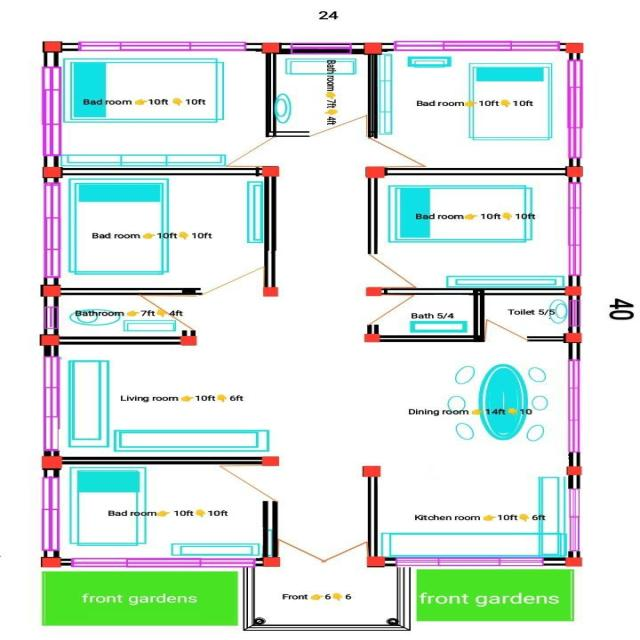column: (34, 454, 71, 472), (35, 37, 68, 56), (33, 281, 65, 300), (557, 552, 589, 571), (176, 332, 206, 351), (34, 553, 64, 572), (357, 462, 385, 482), (359, 38, 388, 57), (254, 453, 286, 470), (560, 163, 590, 181), (361, 555, 394, 571), (558, 40, 590, 56), (38, 164, 70, 180), (356, 284, 388, 300), (36, 332, 66, 349), (257, 553, 285, 571), (255, 284, 286, 300), (558, 331, 587, 348), (358, 331, 388, 346), (258, 40, 286, 56), (361, 164, 388, 180), (258, 163, 283, 180), (561, 284, 587, 300), (560, 463, 584, 480)
